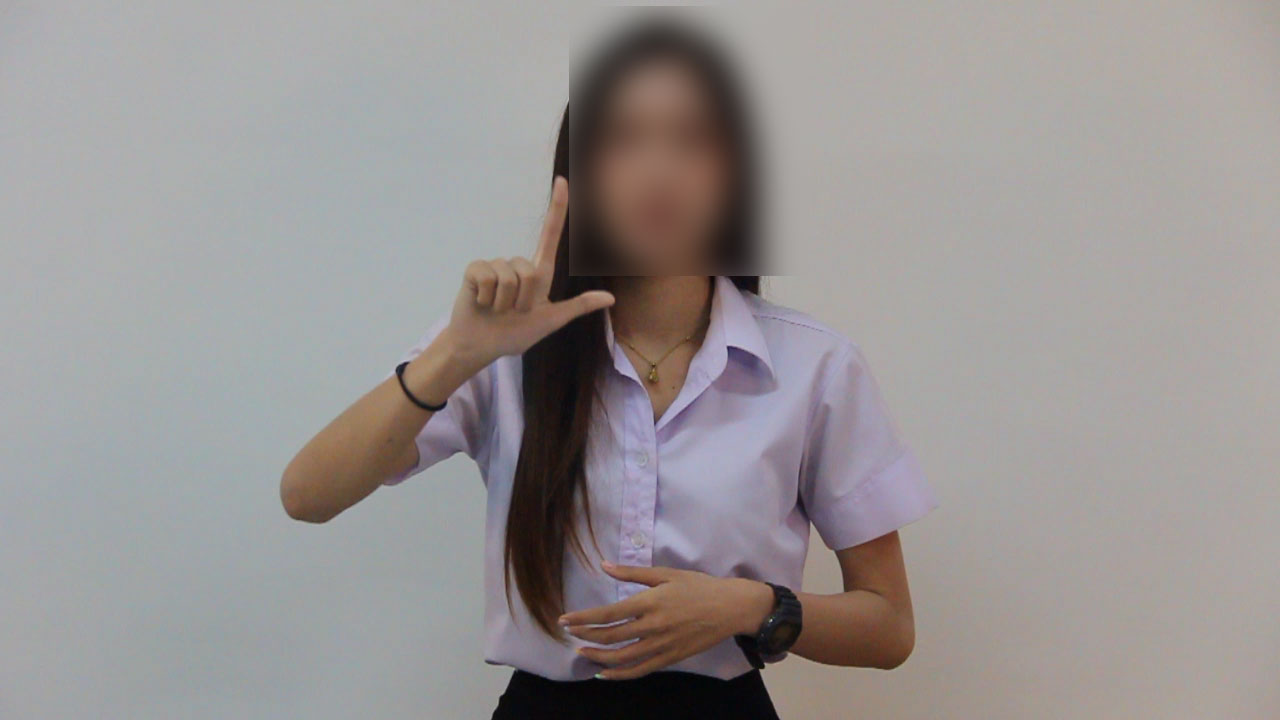lor: (440, 169, 625, 368)
